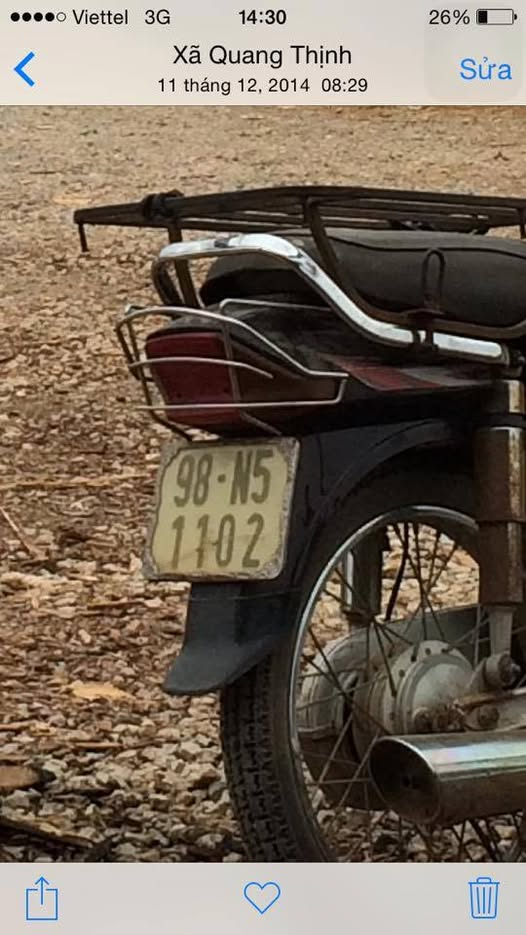bien_so: (131, 429, 311, 588)
